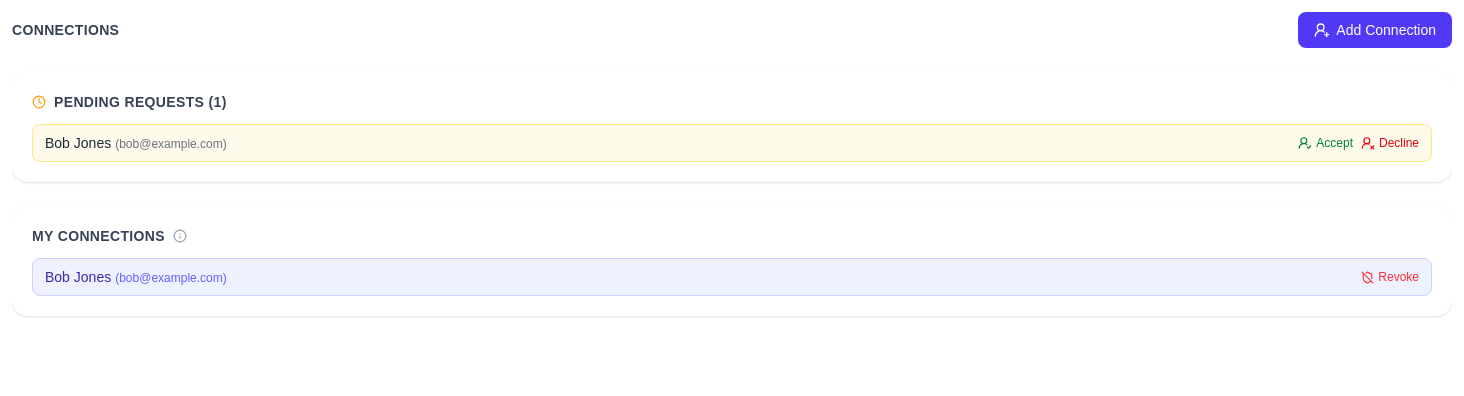
ConnectionsPanel — interactions › shows error message when decline fails
Step 1. Click the button with aria-label "decline request from bob" → (1390, 143), box [1361, 135, 1419, 151]
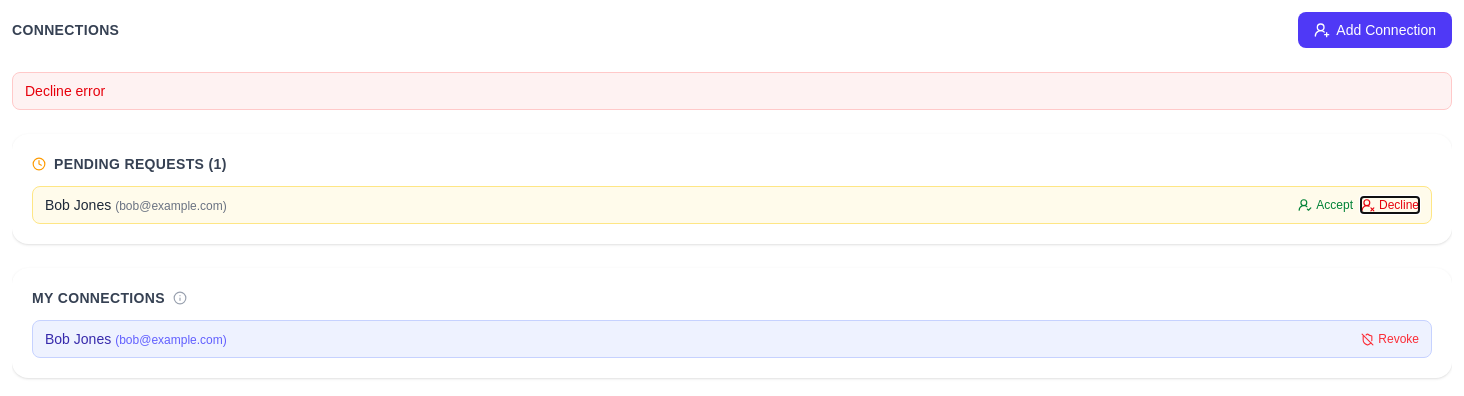
Now the text "Decline error" is shown, box [12, 72, 1452, 110]
